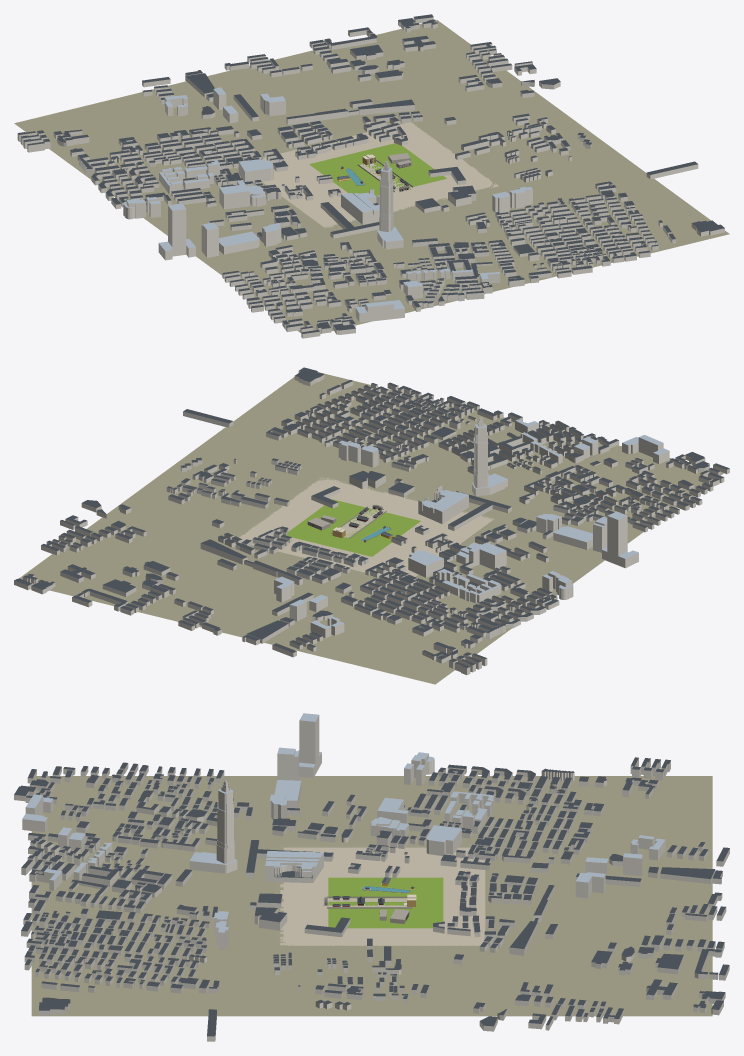
Rendered from static.glb.
3 renders of one model, top to bottom at view 1: azimuth 30°, elevation 25°; view 2: azimuth 150°, elevation 25°; view 3: azimuth 270°, elevation 25°, orthographic. The views are drawn at different scales.
Parts seen in each view (by area): view 1: Ground, Garden, Buildings, City; view 2: Ground, Garden, Buildings, City; view 3: Ground, Garden, Buildings, City.
Part boxes in pixels (left/top/right/bottom): Ground: left=14, top=20, right=729, bottom=333; Garden: left=17, top=17, right=724, bottom=338; Buildings: left=18, top=14, right=724, bottom=333; City: left=123, top=87, right=532, bottom=313; Ground: left=19, top=372, right=723, bottom=684; Garden: left=14, top=371, right=729, bottom=674; Buildings: left=14, top=367, right=729, bottom=667; City: left=274, top=417, right=669, bottom=628; Ground: left=31, top=776, right=712, bottom=1016; Garden: left=14, top=715, right=729, bottom=1041; Buildings: left=14, top=757, right=729, bottom=1036; City: left=22, top=713, right=665, bottom=932.
Size of the model in its own units: 1708 by 251 by 1843.
